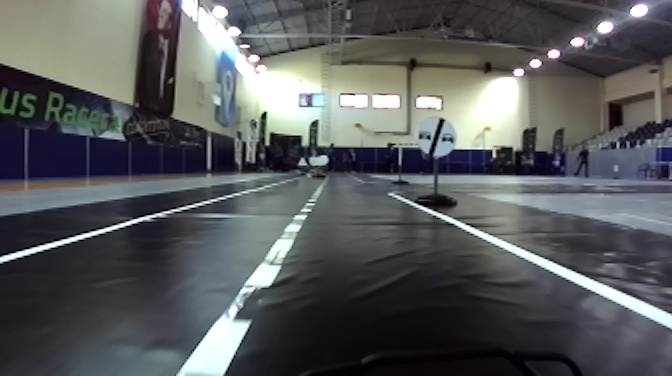sollama_serbest: (415, 115, 456, 159)
